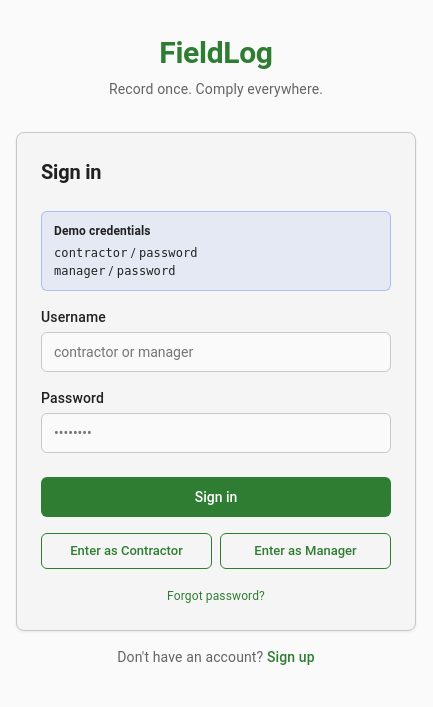
Test: LoginPage demo credentials › requires both fields
Click the button "Sign in".
click(216, 496)  # box [41,476,391,516]
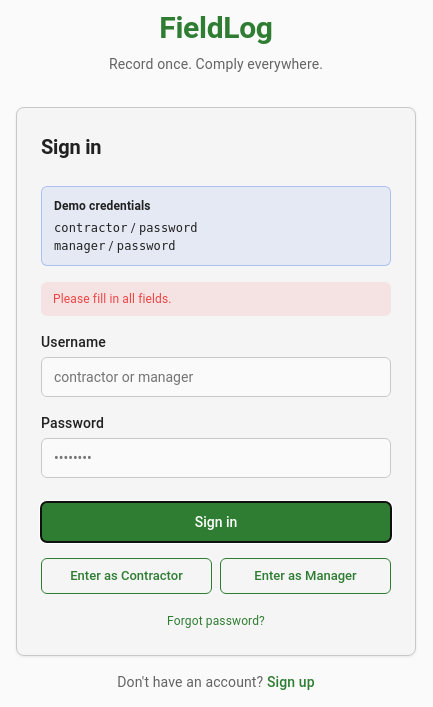
Check: the message with test id "login-error" shows "fill in all fields", box [53,292,172,306]
